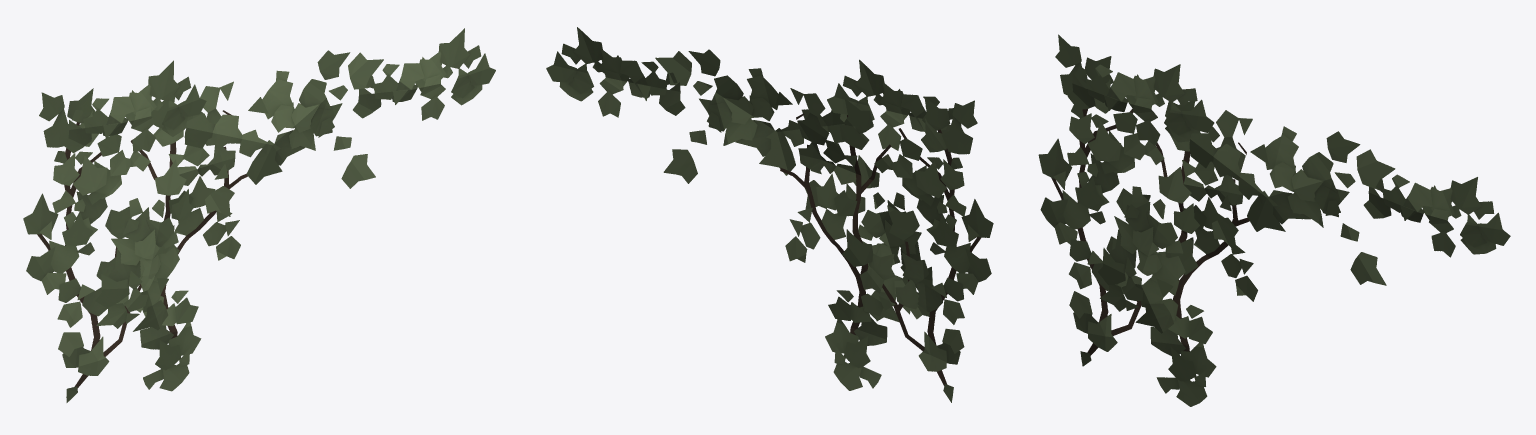
Rendered from SM_Gen_Env_Ivy_10.obj.
3 views of the same model, side by side, from view 1: azimuth 30°, elevation 25°; view 2: azimuth 150°, elevation 25°; view 3: azimuth 330°, elevation 25° (orthographic). The views are drawn at different scales.
Parts seen in each view (by area): view 1: SM_Gen_Env_Ivy_10_0; view 2: SM_Gen_Env_Ivy_10_0; view 3: SM_Gen_Env_Ivy_10_0.
Boxes of the visible parts, bbox=[...] form: SM_Gen_Env_Ivy_10_0: bbox=[23, 28, 495, 402]; SM_Gen_Env_Ivy_10_0: bbox=[546, 27, 993, 402]; SM_Gen_Env_Ivy_10_0: bbox=[1038, 34, 1510, 406].
Size of the model in its own units: 3.3 by 2.34 by 0.1654.
Materials: 1 (1 with a texture image).
